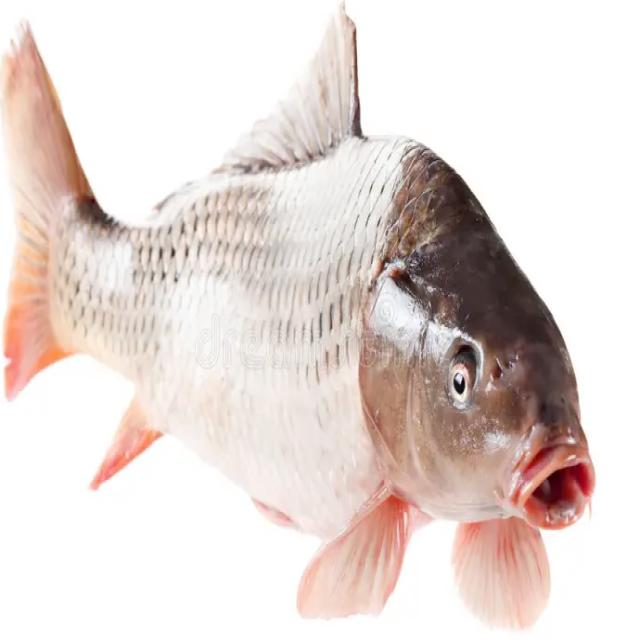Common carp: (0, 0, 595, 632)
